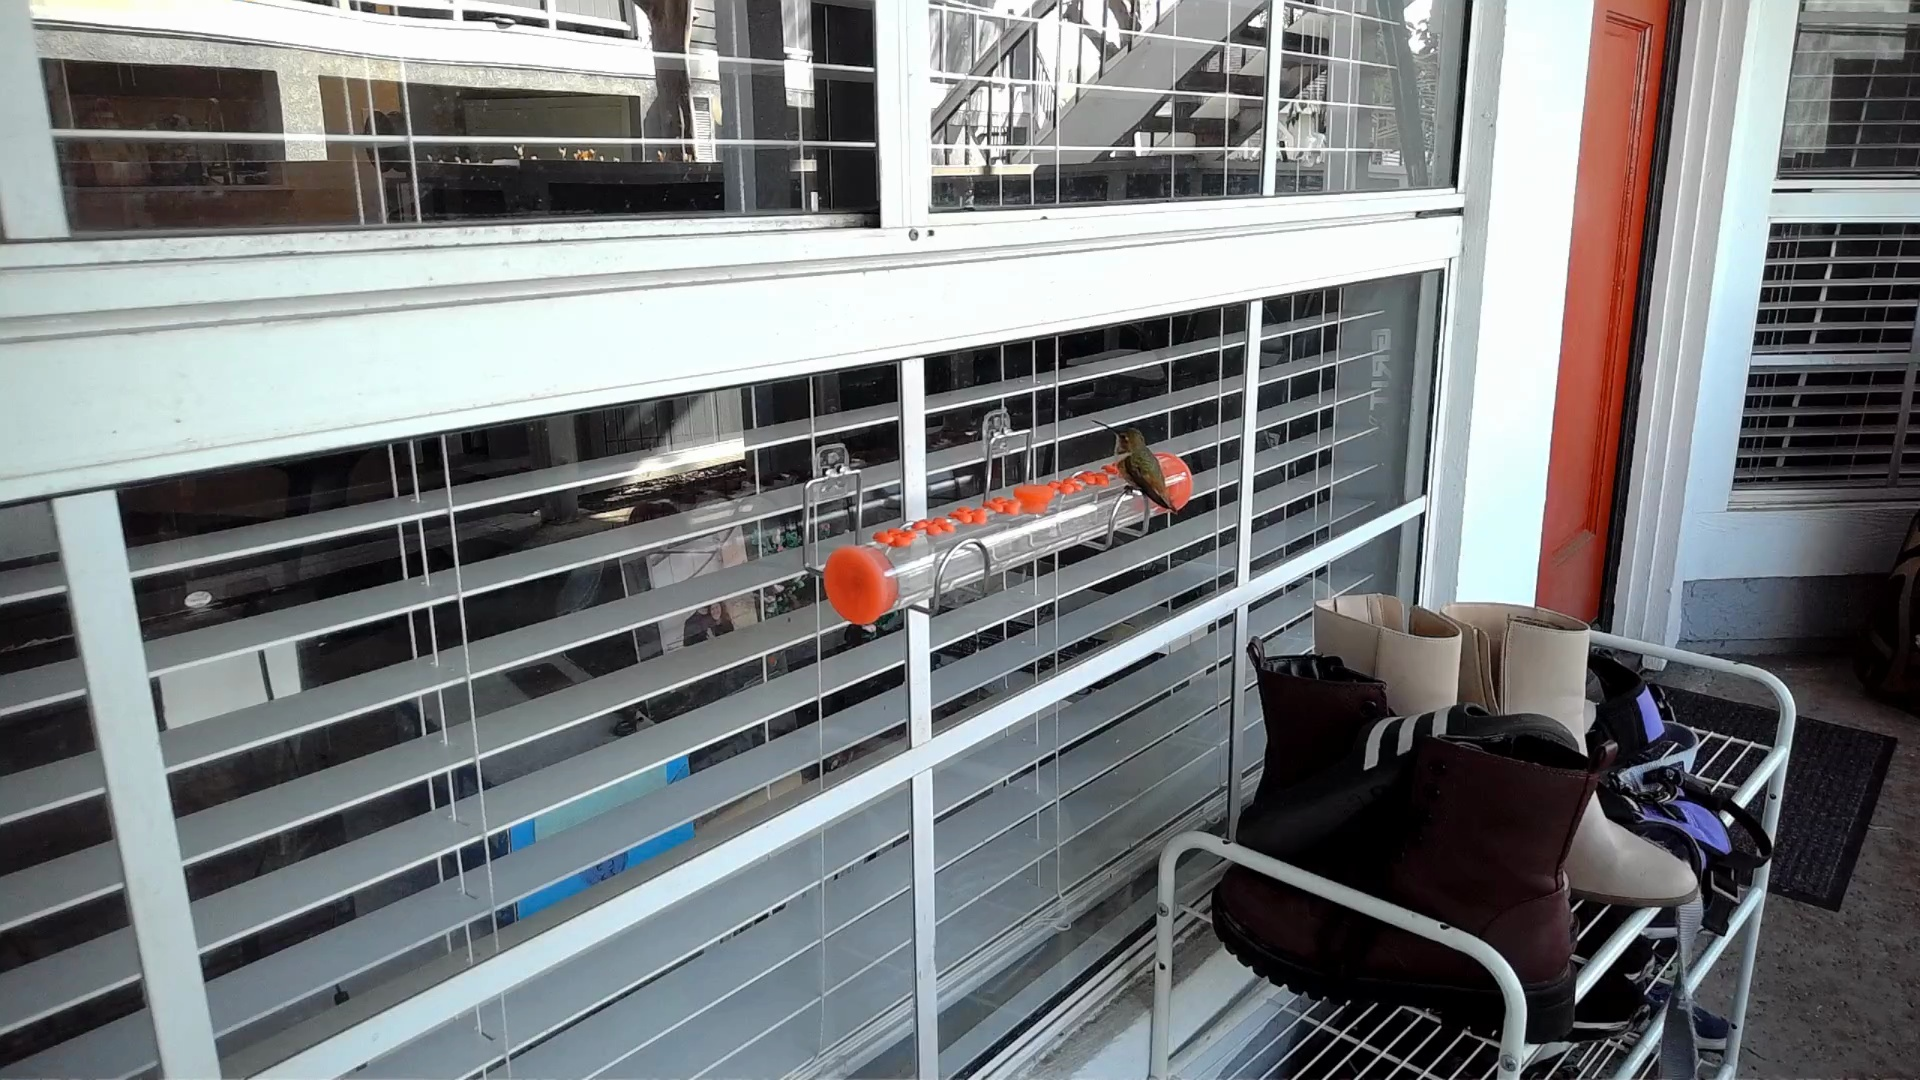calypte anna: (1089, 419, 1174, 512)
